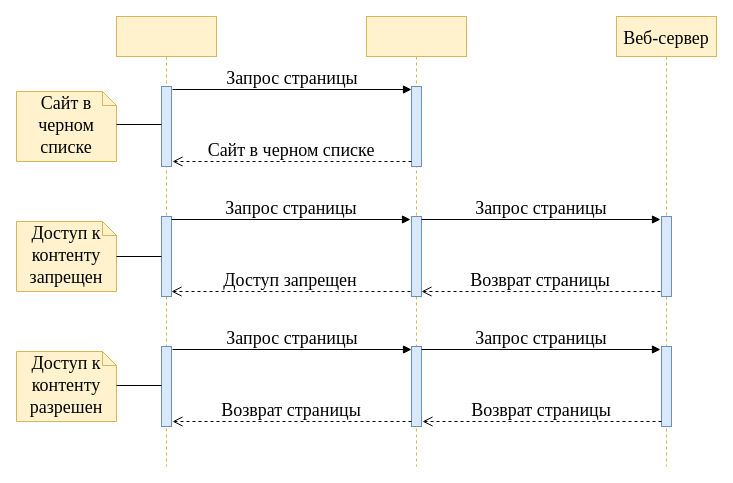
Some shapes in this 733 by 483 pixel diagram are drawn without their labels. The shapes that lost their labels are listed below. From the top down, each one's centre as x and y in pixels, then its label:
At (166,241): "Браузер".
At (416,241): "Веб-фильтр".
